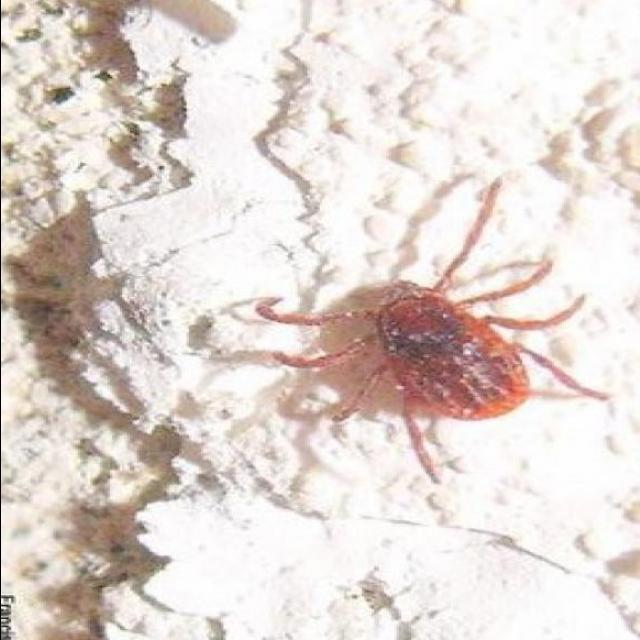Rhipicephalus Sanguineus-F: (227, 179, 605, 483)
